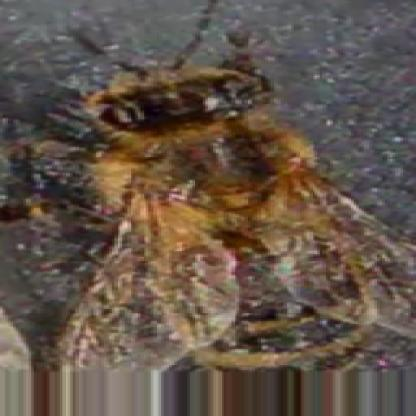bee: (69, 51, 395, 372)
